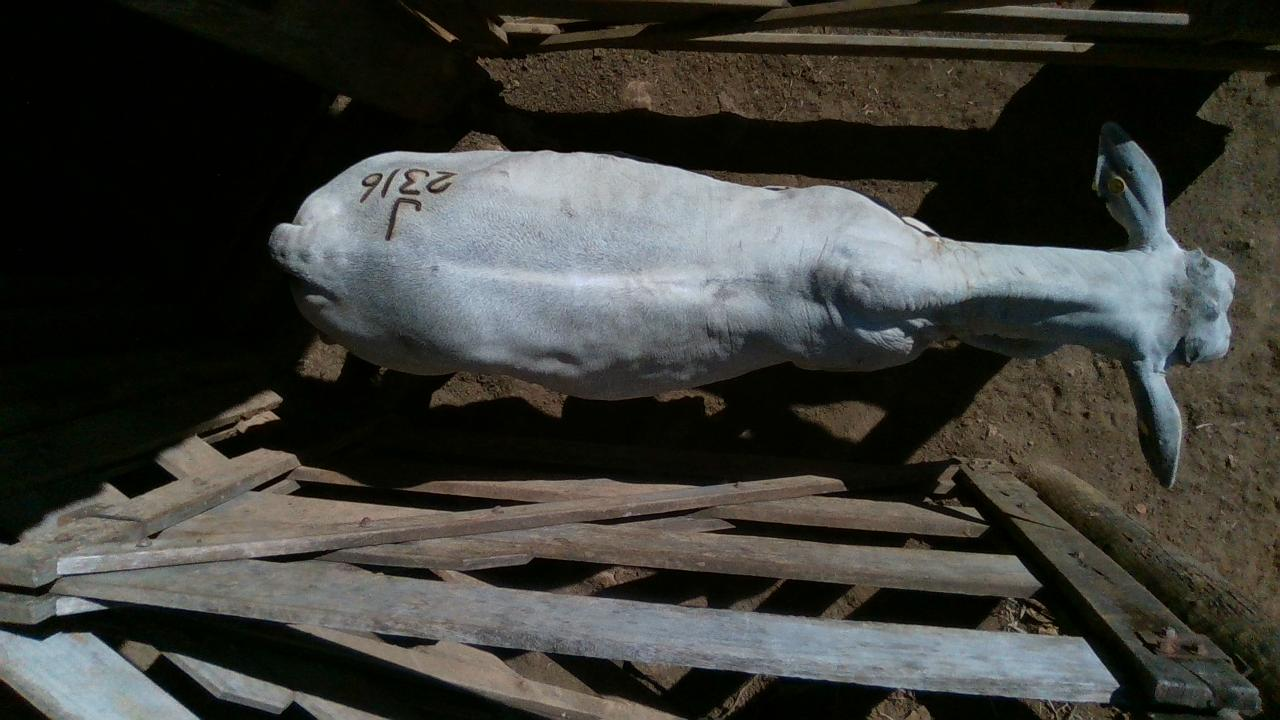cattle: (266, 120, 1236, 490)
